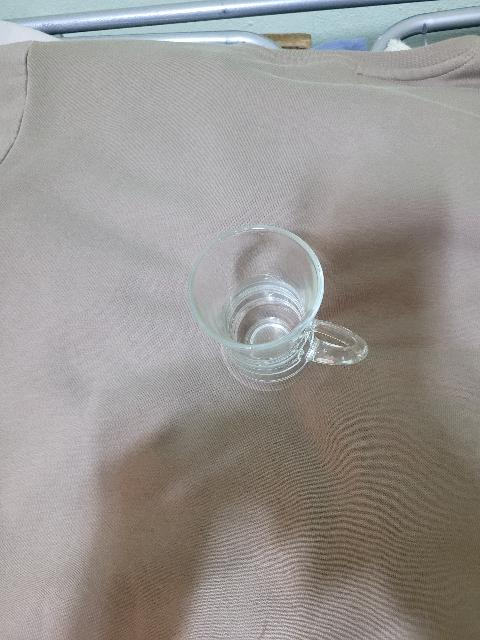Cam: (185, 223, 377, 386)
